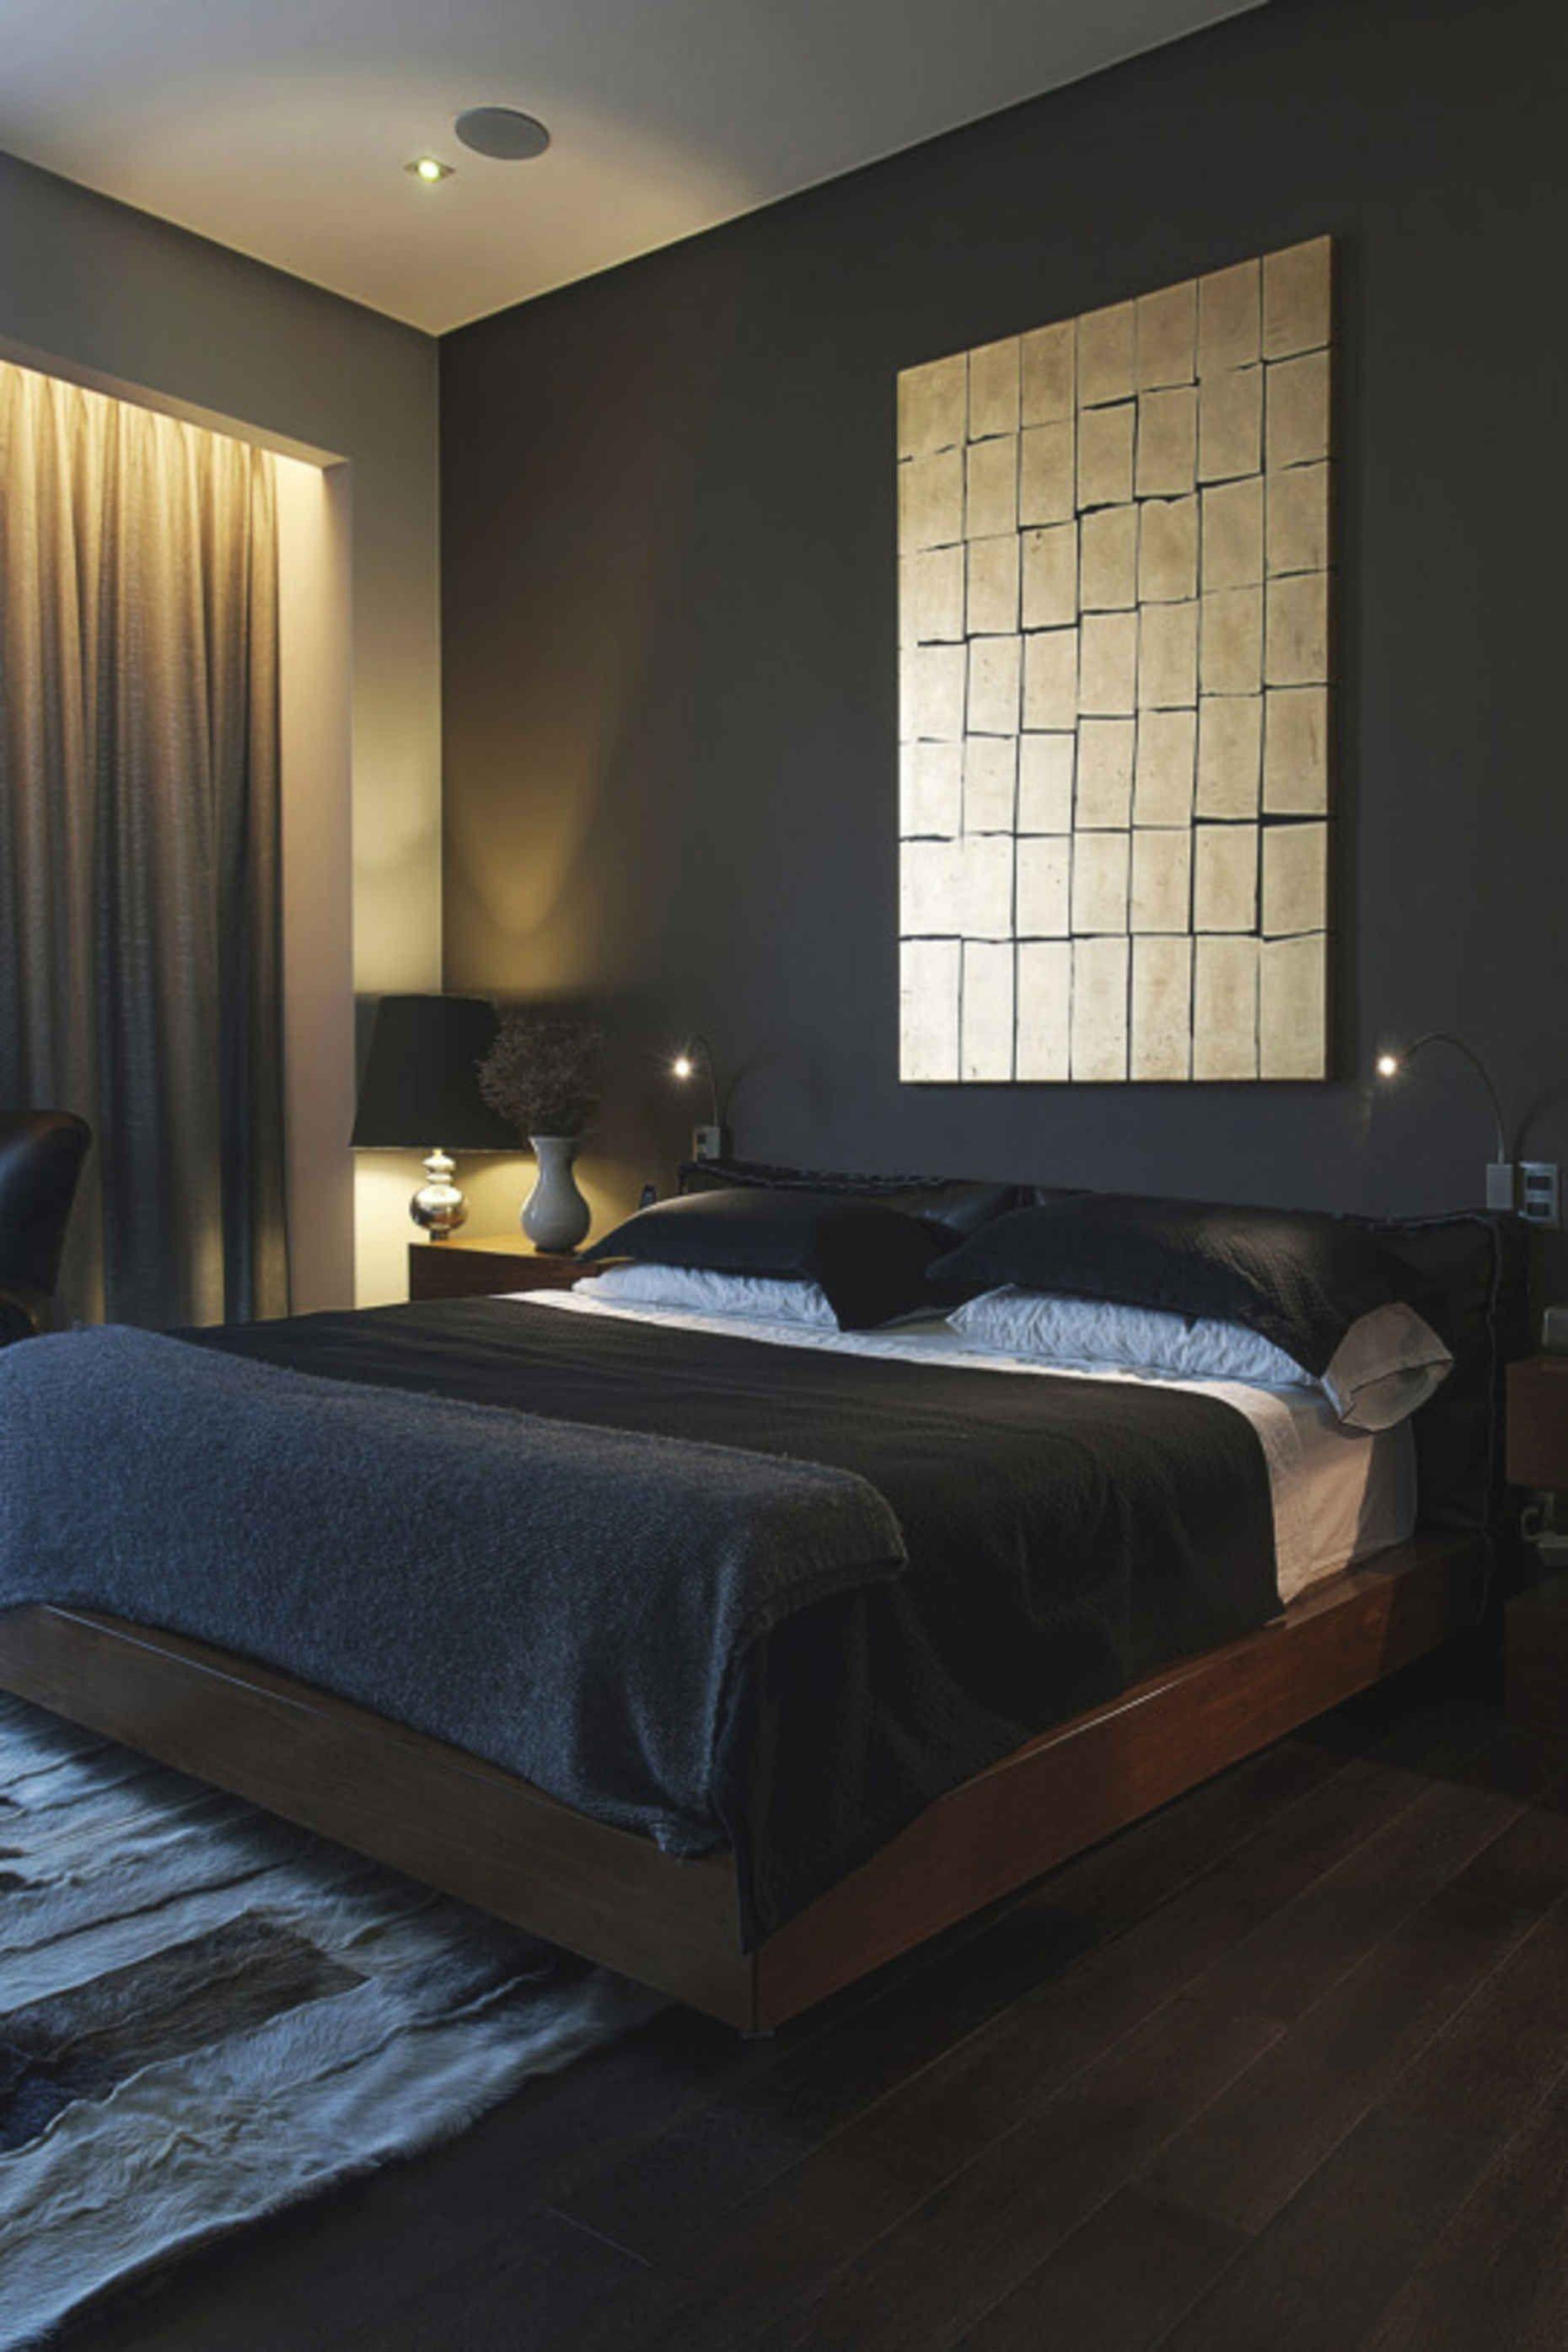bed: (96, 1080, 1445, 1977)
